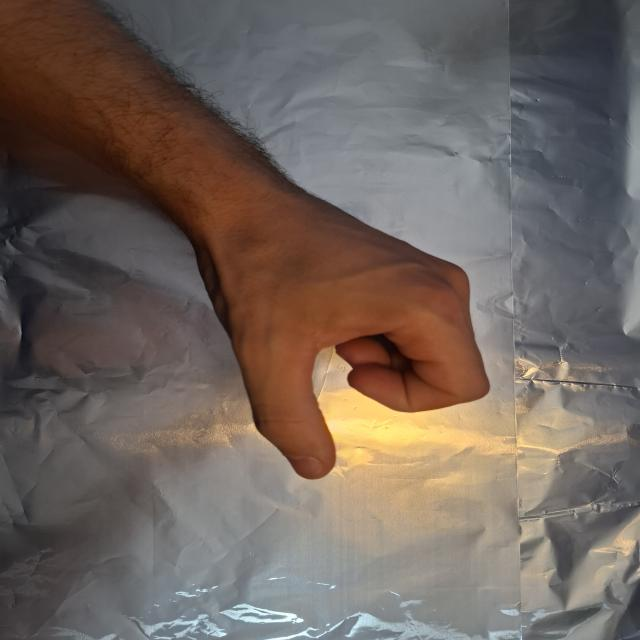glove_off: (184, 183, 494, 482)
